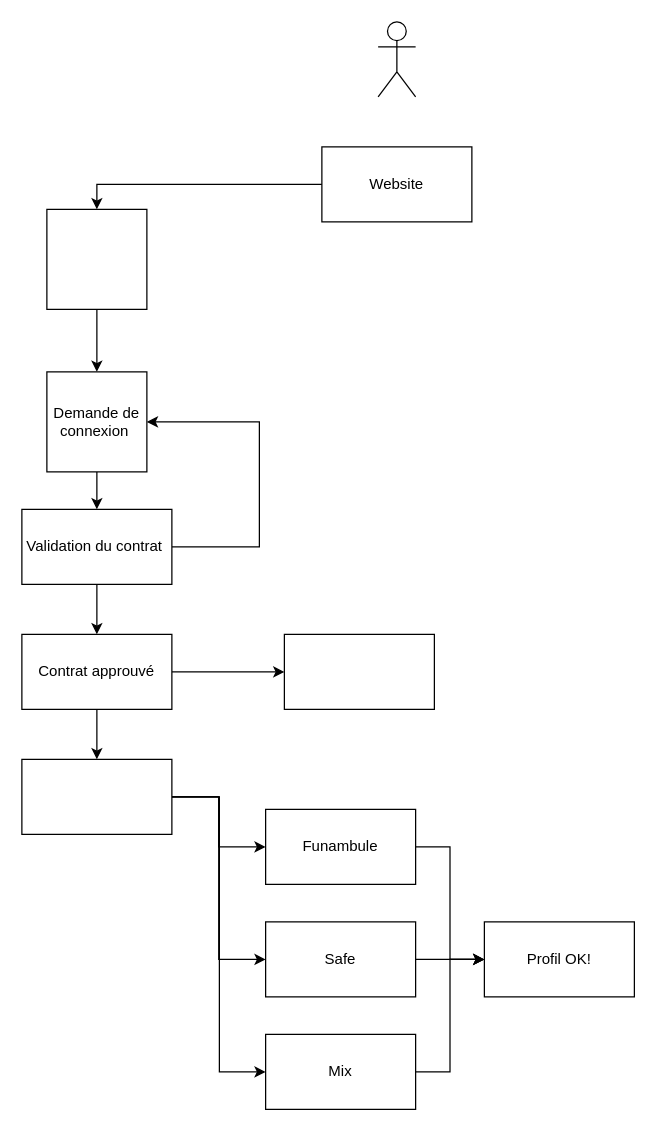
Image size: 656x1131. Some labels were removed from this diagram. The centre of each missing label's shape, as x and y in pixels:
"1er Reward" belongs at point 358,671.
"Actor" belongs at point 396,59.
"Détection Wallet" belongs at point 96,258.
"Proposition choix profil" belongs at point 96,796.
